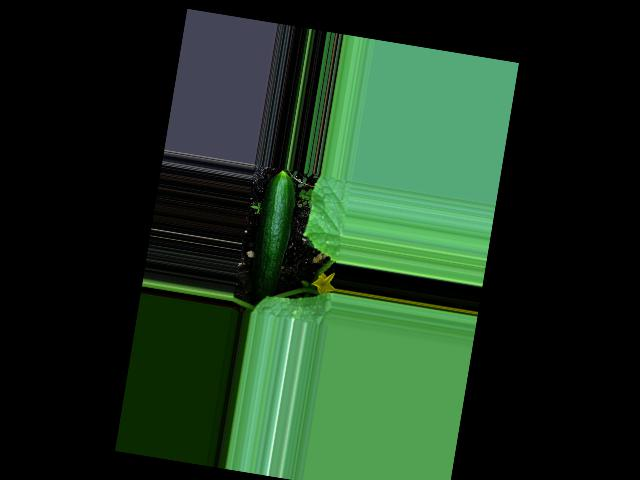cucumber: (245, 167, 299, 305)
